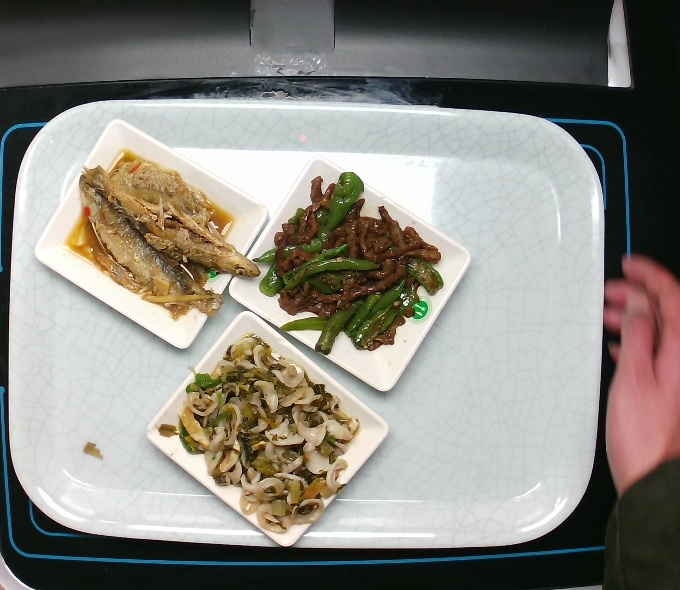wcq-QingJiaoNiuRou: (259, 167, 447, 353)
wcq-XiaoXiYu: (68, 152, 260, 323)
wcq-XueCaiYouYu: (179, 341, 359, 530)
